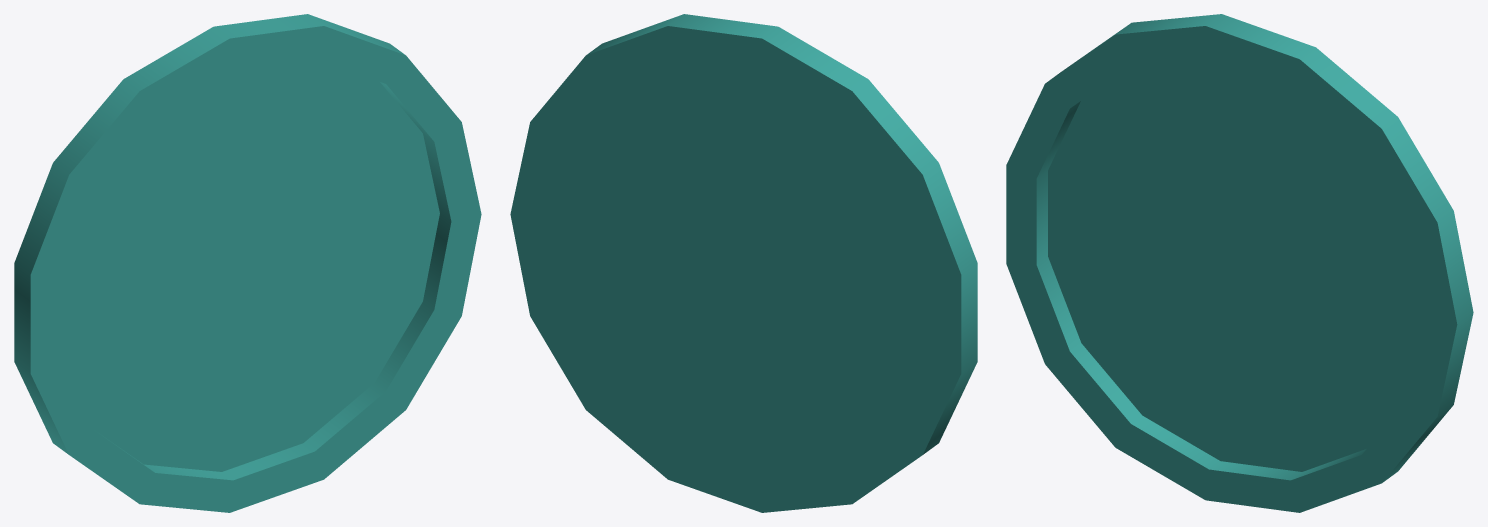
Rendered from SignB_1.fbx.
3 views of the same model, side by side, from view 1: azimuth 30°, elevation 25°; view 2: azimuth 150°, elevation 25°; view 3: azimuth 330°, elevation 25° (orthographic).
Parts seen in each view (by area): view 1: SignB_1; view 2: SignB_1; view 3: SignB_1.
Part boxes in pixels (x1,y1,x2,y2): SignB_1: (14, 14, 481, 512); SignB_1: (510, 14, 977, 512); SignB_1: (1006, 14, 1473, 512).
Bounding box in the file's own units: 52.6 × 52.89 × 3.29.
